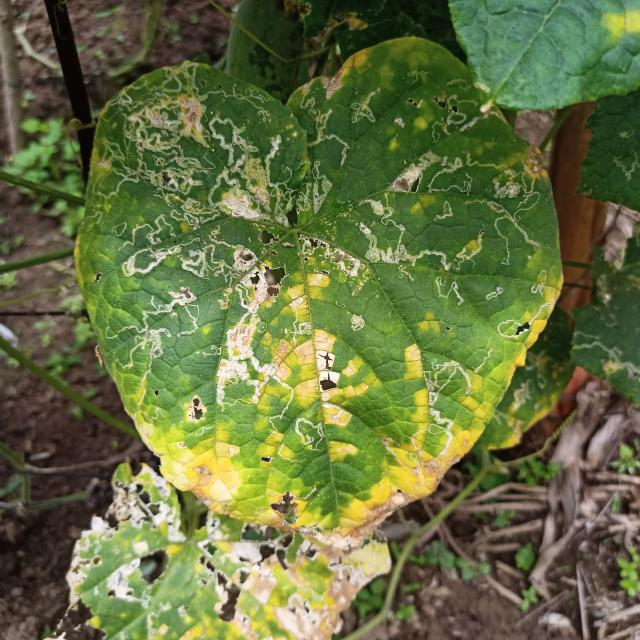disease_cucumber: (75, 270, 581, 551)
